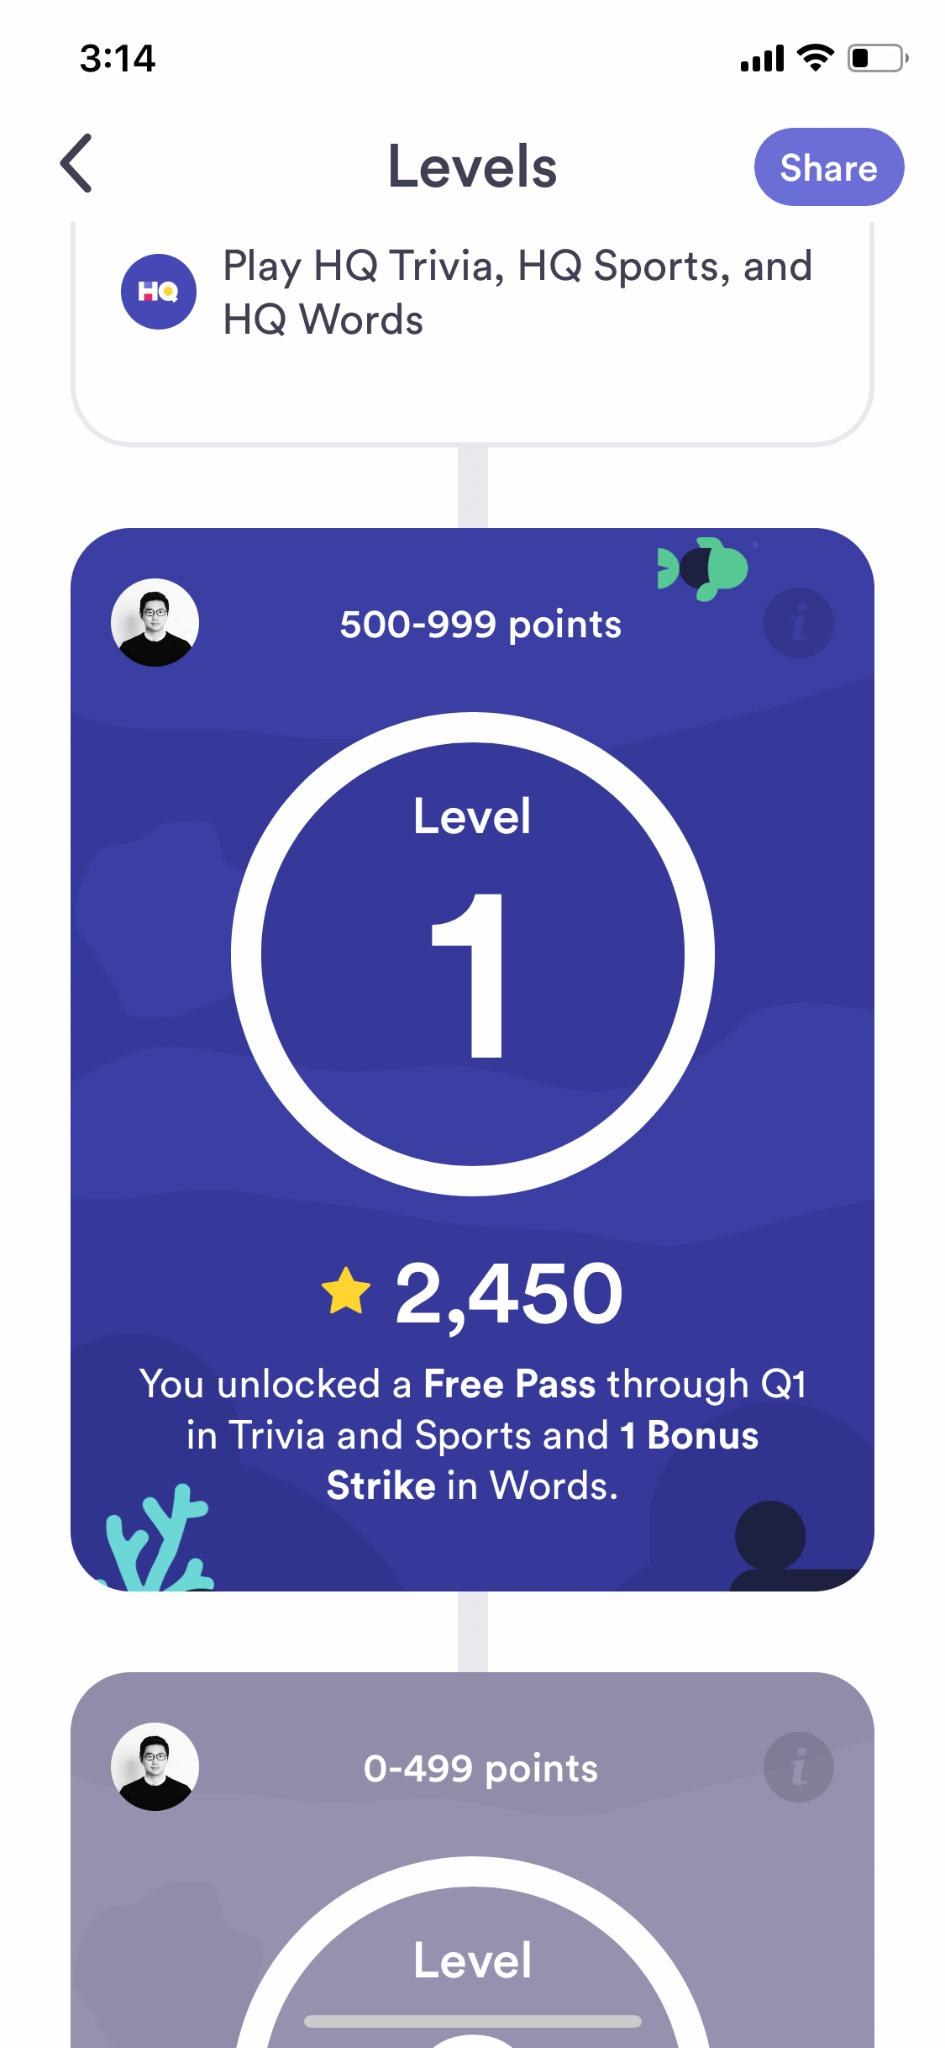Buttons: (752, 119, 915, 216), (33, 115, 133, 213), (758, 1724, 847, 1806), (760, 583, 841, 666)
